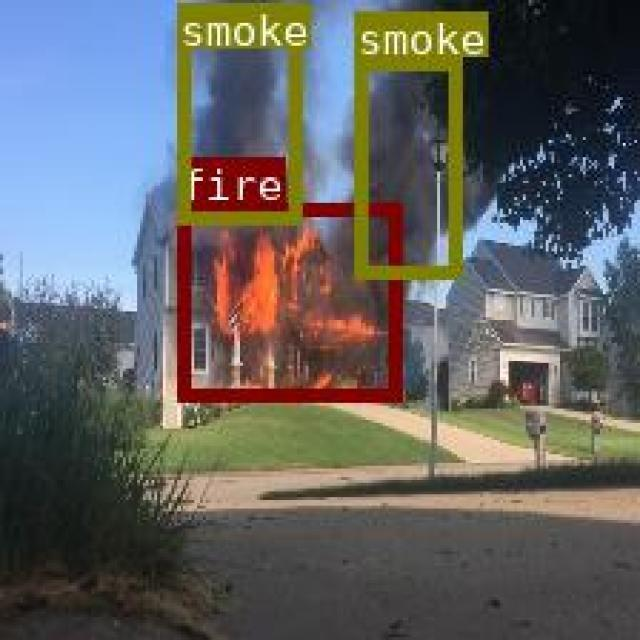fire: (175, 201, 400, 399)
smoke: (175, 3, 298, 222), (352, 57, 460, 276)
